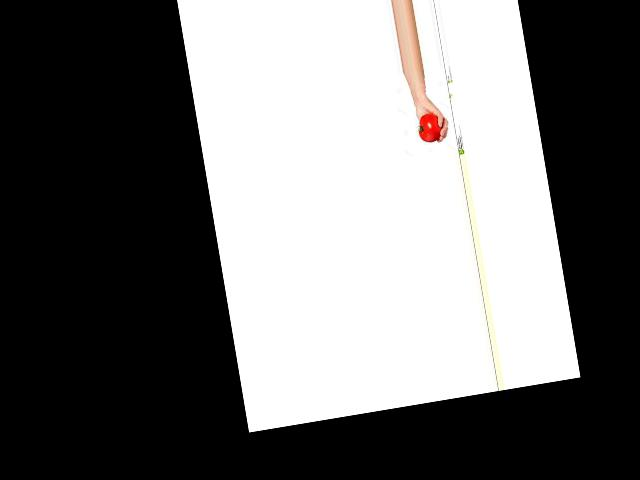tomato: (416, 111, 444, 143)
